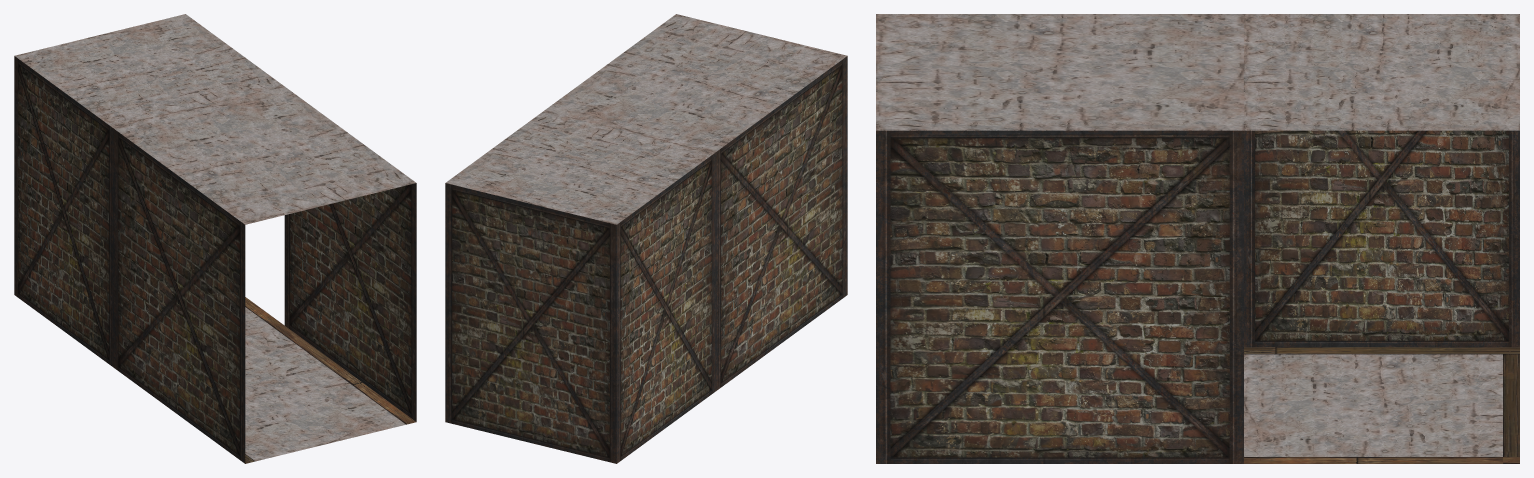
The model's file is Maintaince_turning_horizontal_right.FBX.
The picture shows the model from 3 angles, left to right: view 1: azimuth 30°, elevation 25°; view 2: azimuth 150°, elevation 25°; view 3: azimuth 270°, elevation 25°; orthographic projection. The views are drawn at different scales.
Parts seen in each view (by area): view 1: Maintaince_turning_horizontal_right; view 2: Maintaince_turning_horizontal_right; view 3: Maintaince_turning_horizontal_right.
Boxes of the visible parts, <box> form: Maintaince_turning_horizontal_right: <box>14,14,416,463</box>; Maintaince_turning_horizontal_right: <box>445,14,847,463</box>; Maintaince_turning_horizontal_right: <box>876,14,1519,463</box>.
Size of the model in its own units: 30 by 70 by 40.
